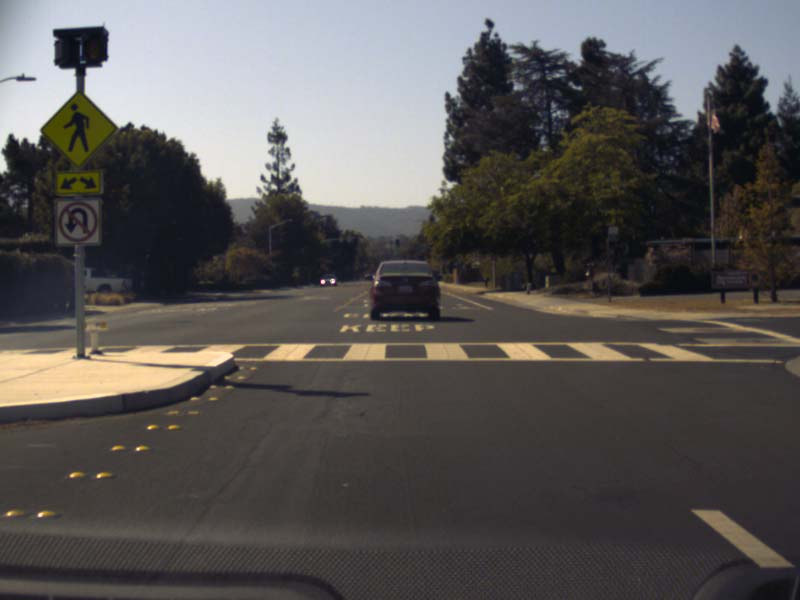Green: (394, 239, 398, 247)
